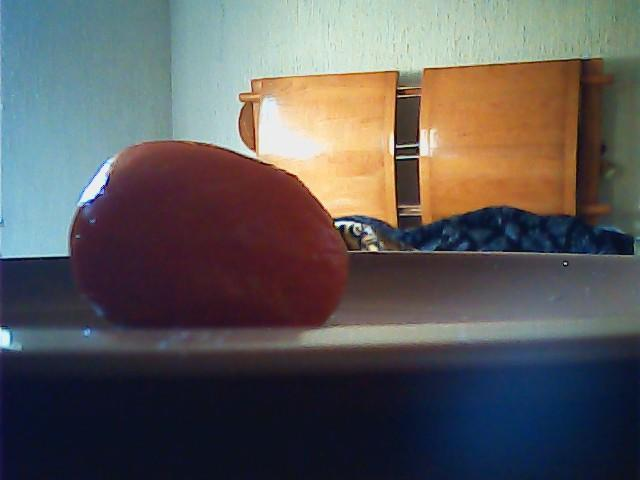maduro: (67, 140, 349, 329)
